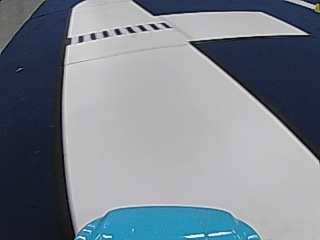CrossWalk: (73, 20, 168, 42)
